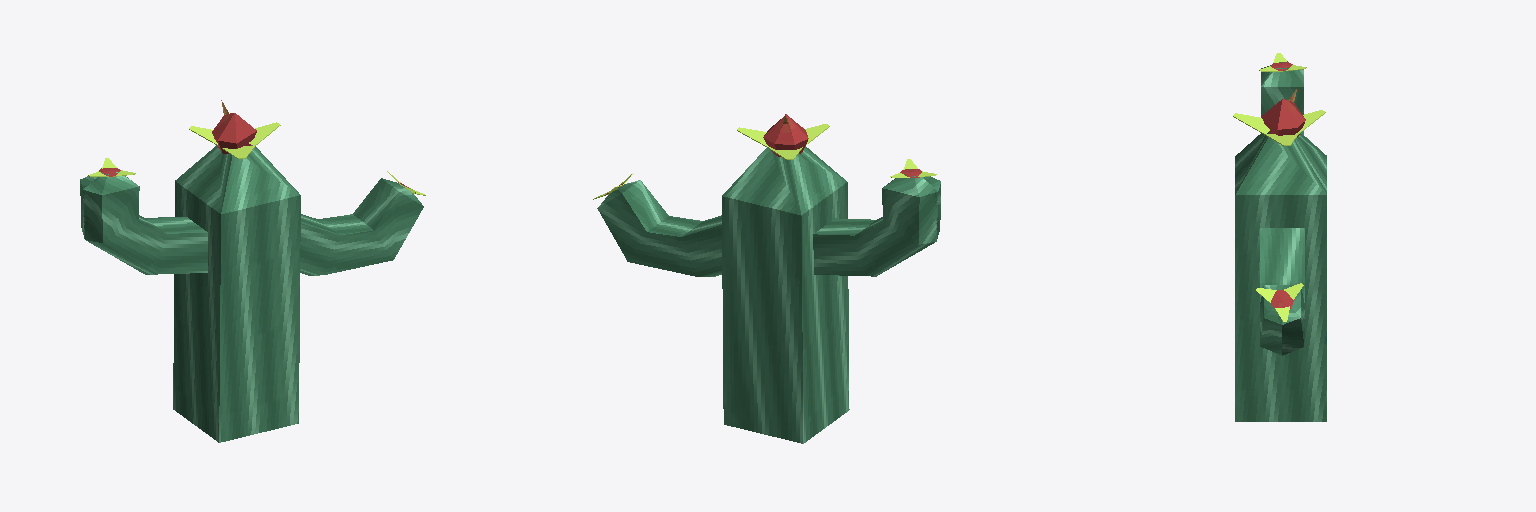
3 views of the same model, side by side, from view 1: azimuth 30°, elevation 25°; view 2: azimuth 150°, elevation 25°; view 3: azimuth 270°, elevation 25° (orthographic).
Parts seen in each view (by area): view 1: tree3_2mesh_tree3_2poly; view 2: tree3_2mesh_tree3_2poly; view 3: tree3_2mesh_tree3_2poly.
Boxes of the visible parts, <box> form: tree3_2mesh_tree3_2poly: <box>80,100,425,442</box>; tree3_2mesh_tree3_2poly: <box>593,114,940,443</box>; tree3_2mesh_tree3_2poly: <box>1233,53,1326,421</box>.
Size of the model in its own units: 2.05 by 1.78 by 0.4912.
1 materials, 1 textured.